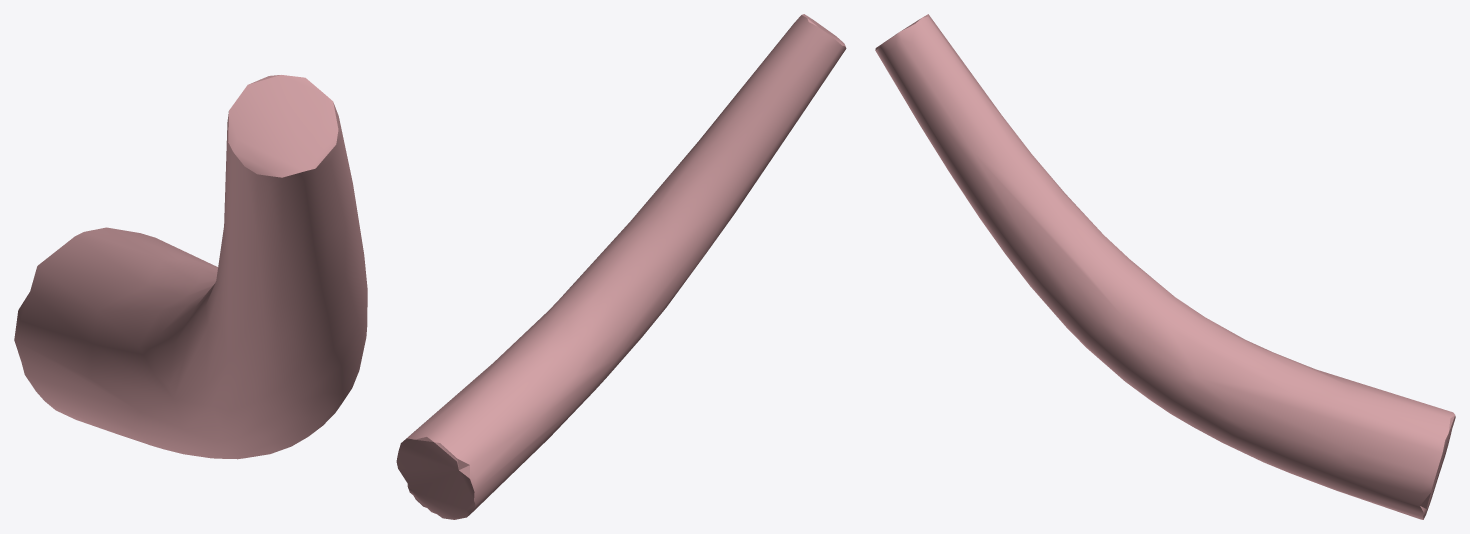
File: fma68212_fj2514.glb
3 views of the same model, side by side, from view 1: azimuth 30°, elevation 25°; view 2: azimuth 150°, elevation 25°; view 3: azimuth 270°, elevation 25° (orthographic). The views are drawn at different scales.
Visible parts, largest first — view 1: FMA68212_FJ2514; view 2: FMA68212_FJ2514; view 3: FMA68212_FJ2514.
Boxes of the visible parts, x1,y1,x2,y2 form: FMA68212_FJ2514: [14, 75, 367, 459]; FMA68212_FJ2514: [396, 14, 846, 519]; FMA68212_FJ2514: [875, 14, 1455, 519].
Bounding box in the file's own units: 0.0087 × 0.0143 × 0.018.
